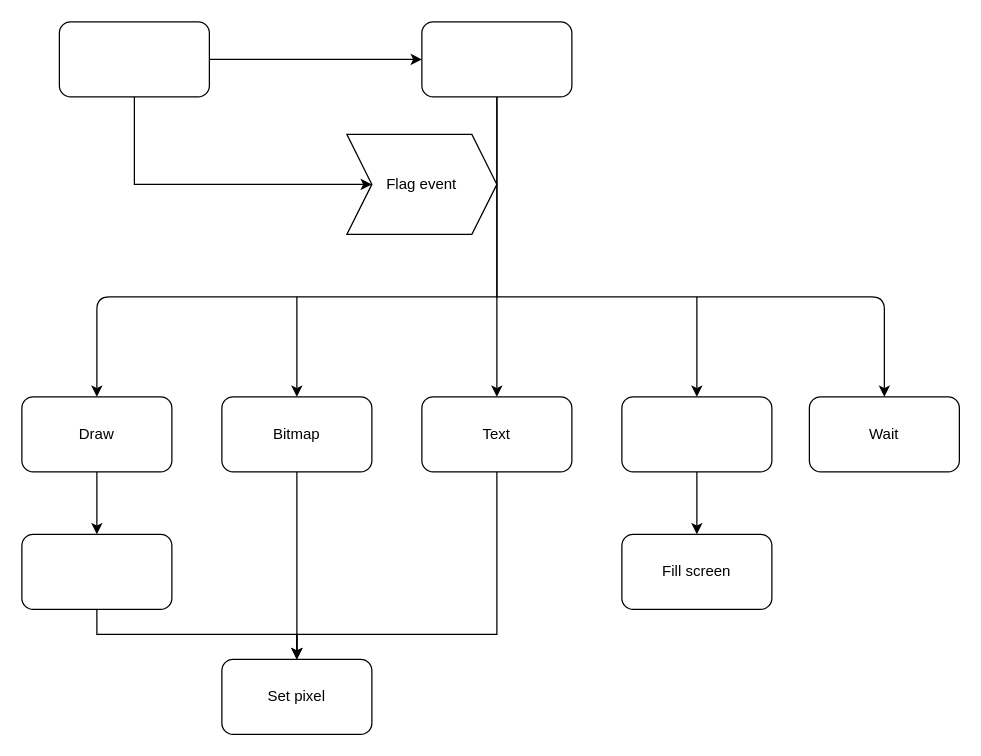
Image size: 981x756. Some labels were removed from this diagram. Each missing label, with the centre of its shape:
"Clear" goes at (x=696, y=434).
"Line" goes at (x=96, y=571).
"Queue" goes at (x=496, y=59).
"Uart" goes at (x=133, y=59).
